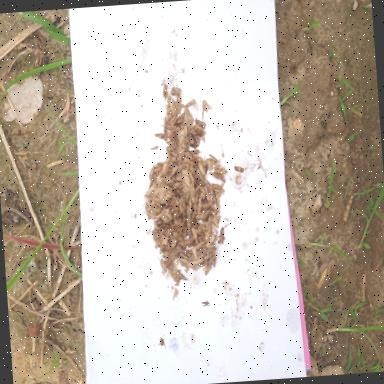pbw: (184, 204, 194, 236), (203, 254, 215, 276), (218, 219, 231, 238), (194, 207, 207, 224), (142, 196, 151, 219), (186, 256, 204, 267), (146, 171, 156, 190), (177, 124, 190, 138), (204, 178, 214, 196), (197, 160, 206, 179), (176, 268, 188, 282), (190, 261, 206, 271), (202, 206, 212, 222), (176, 150, 186, 166), (194, 197, 203, 214), (178, 195, 186, 214), (158, 257, 168, 272), (144, 184, 156, 196), (147, 163, 156, 179), (194, 116, 206, 128), (200, 198, 214, 208), (212, 166, 227, 175), (174, 243, 186, 254), (184, 155, 195, 167), (205, 235, 215, 248), (209, 202, 217, 218), (214, 196, 221, 214), (194, 239, 205, 250), (202, 98, 213, 109), (168, 164, 178, 176), (212, 156, 222, 168), (175, 112, 185, 124), (161, 82, 168, 99), (183, 98, 196, 107), (168, 112, 177, 125), (198, 182, 206, 196), (179, 259, 189, 270), (194, 124, 205, 134), (211, 252, 218, 267), (188, 170, 196, 183), (171, 182, 184, 190), (190, 225, 198, 238), (207, 152, 217, 162), (216, 173, 226, 183), (191, 245, 198, 259), (200, 100, 208, 112), (187, 198, 193, 214), (211, 221, 218, 234), (165, 140, 175, 149), (233, 164, 244, 172), (211, 182, 222, 190), (205, 156, 216, 164), (201, 264, 212, 272), (207, 170, 218, 178), (188, 148, 200, 155), (165, 102, 171, 116), (212, 216, 219, 228), (162, 127, 168, 141), (170, 84, 180, 92), (217, 234, 225, 244), (178, 256, 188, 264), (154, 131, 164, 139), (170, 88, 180, 96), (176, 146, 186, 154), (164, 124, 176, 130), (162, 116, 168, 128), (171, 287, 177, 299), (200, 104, 204, 121), (186, 123, 194, 131), (200, 300, 210, 306), (166, 227, 172, 237), (149, 144, 158, 150), (156, 160, 164, 166), (214, 188, 224, 192)
